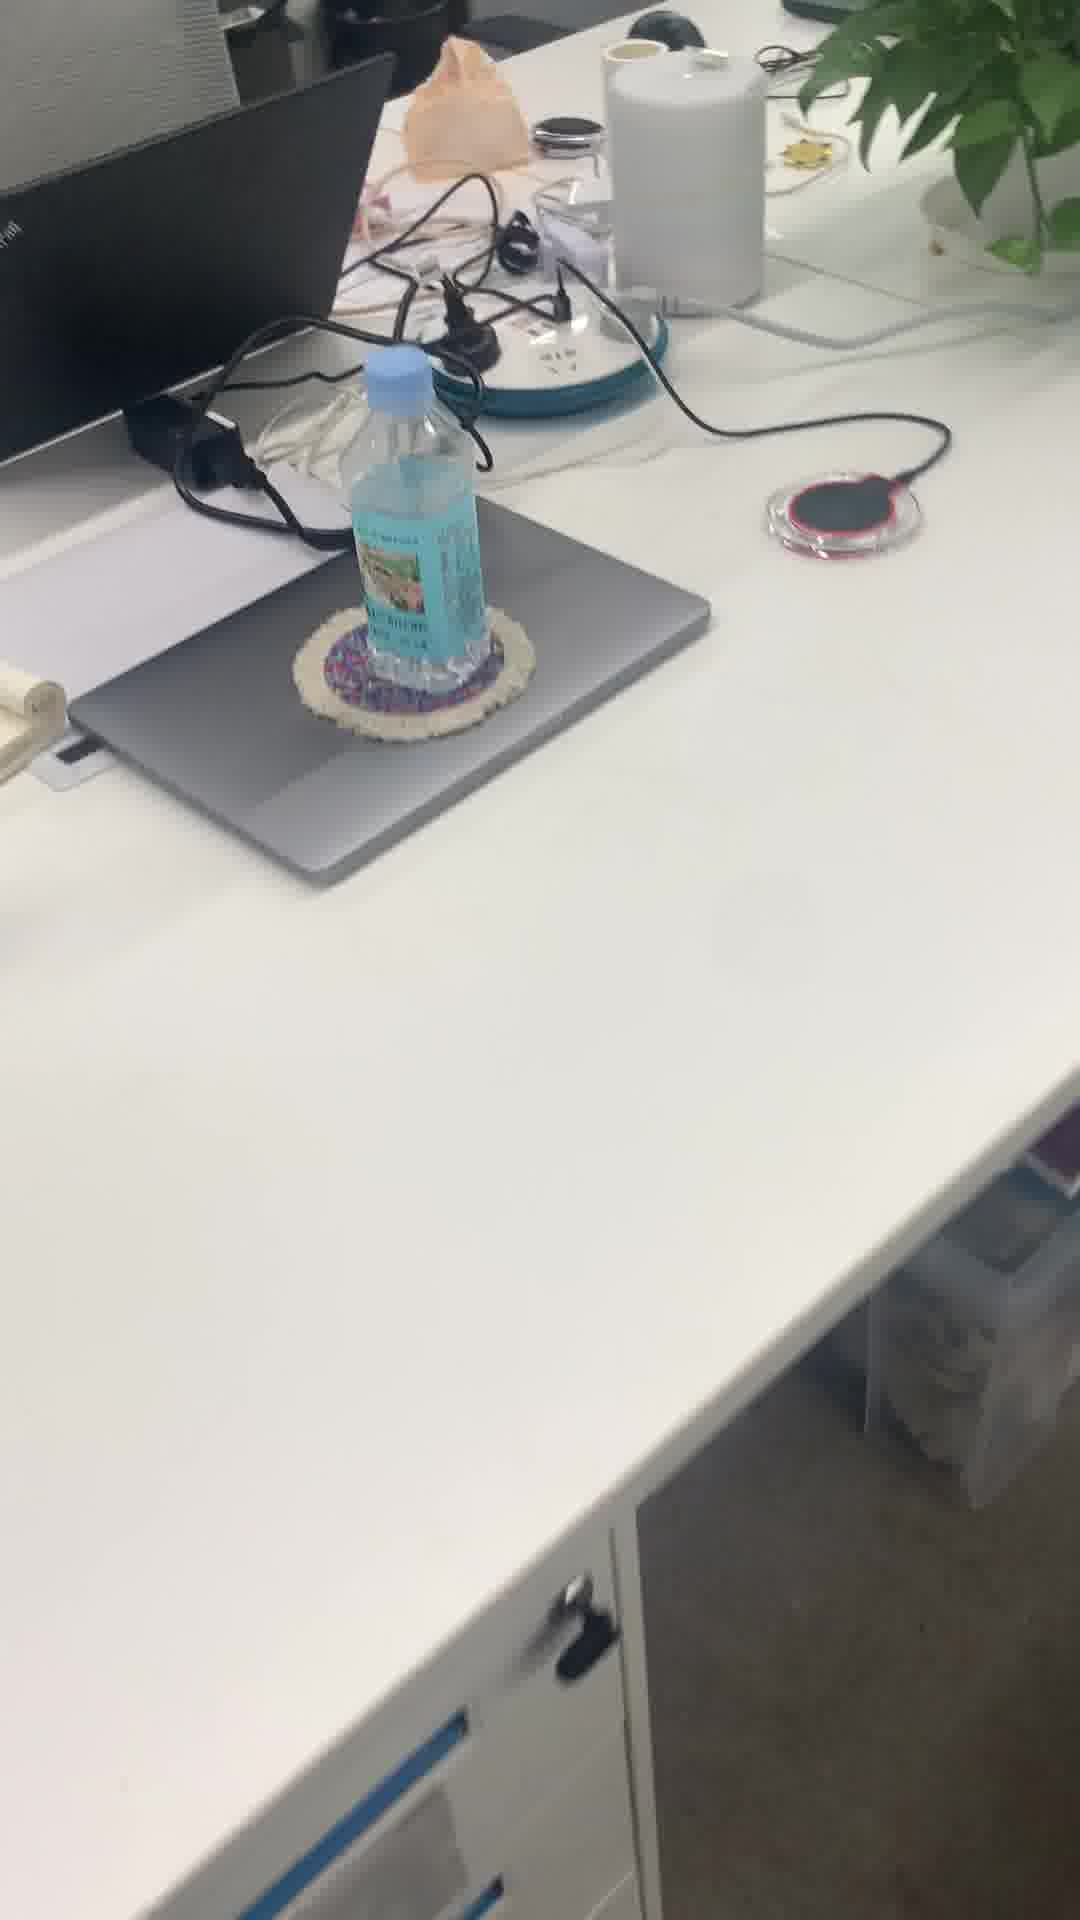水瓶: (334, 345, 502, 696)
